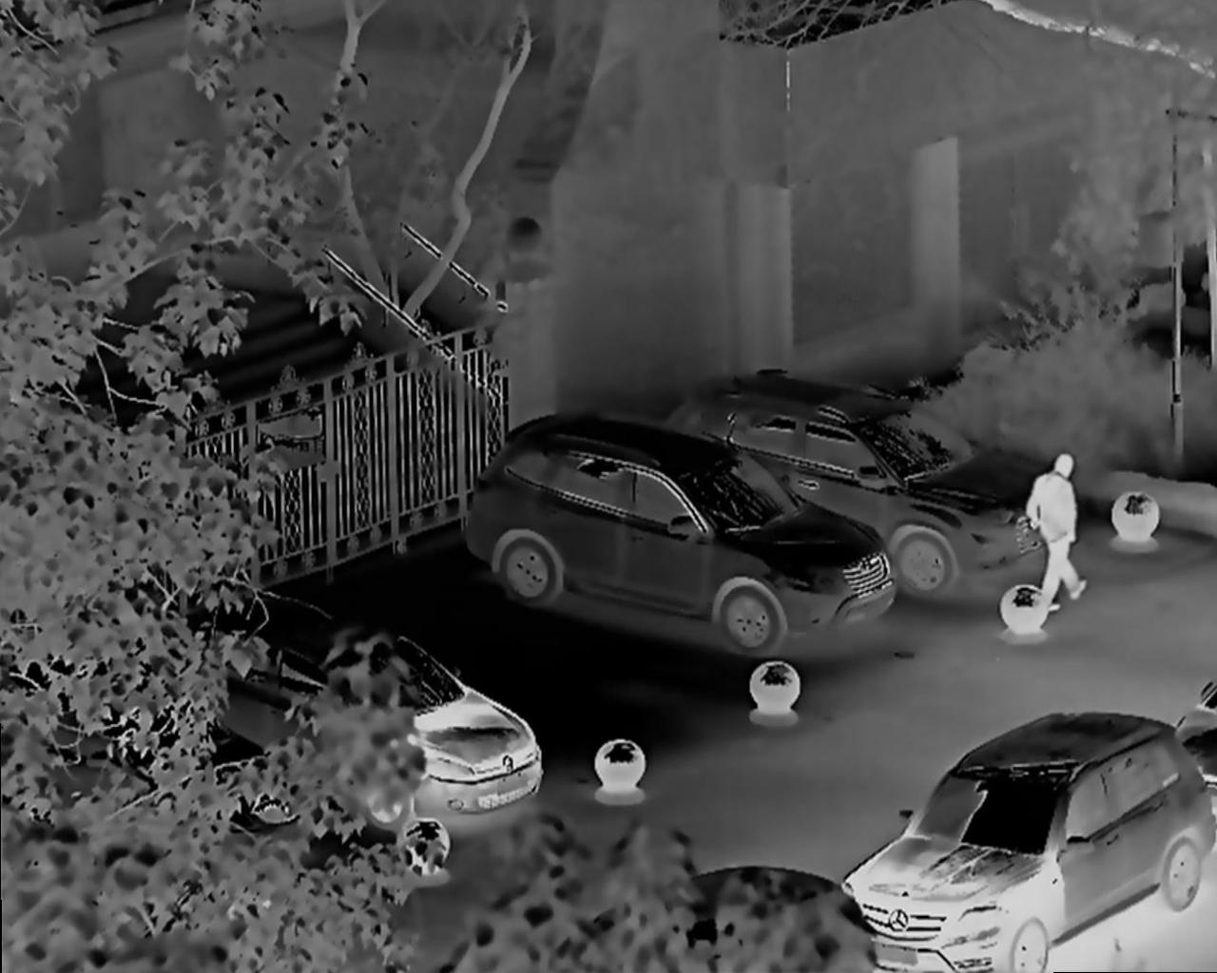person: (1030, 448, 1087, 612)
